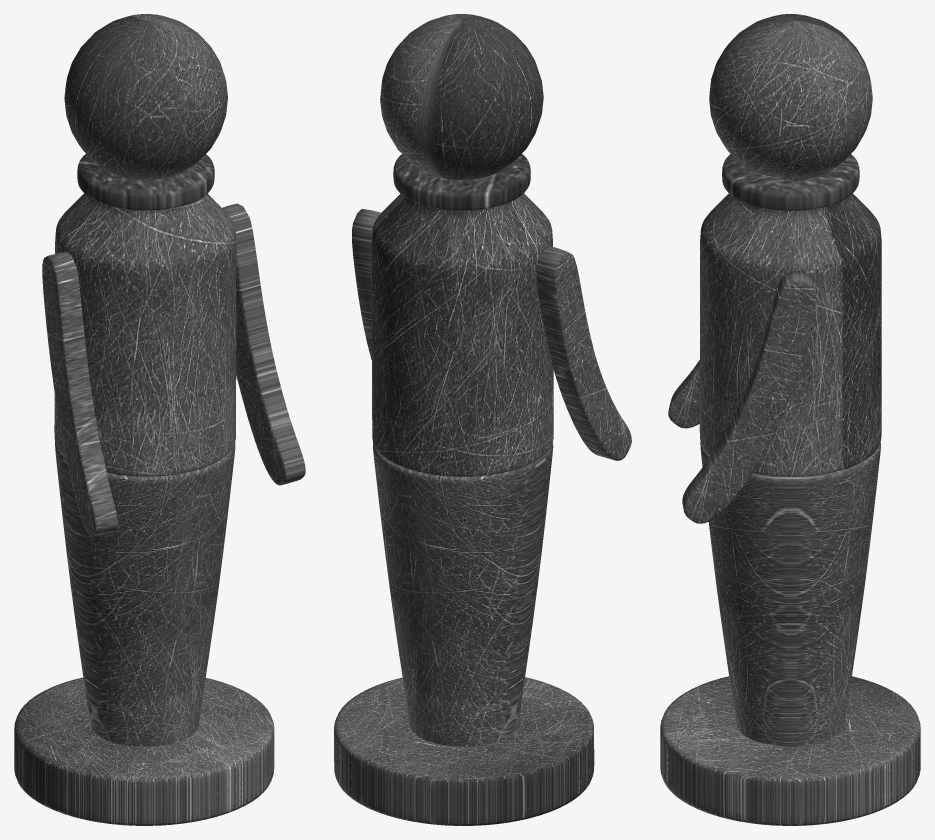
Rendered from Soldadinho.fbx.
3 views of the same model, side by side, from view 1: azimuth 30°, elevation 25°; view 2: azimuth 150°, elevation 25°; view 3: azimuth 270°, elevation 25° (orthographic).
Visible parts, largest first — view 1: Soldado; view 2: Soldado; view 3: Soldado.
Boxes of the visible parts, x1,y1,x2,y2 form: Soldado: (14,14,305,825); Soldado: (334,14,631,825); Soldado: (660,14,920,825).
Bounding box in the file's own units: 247 × 788 × 247.
1 material, 1 textured.
